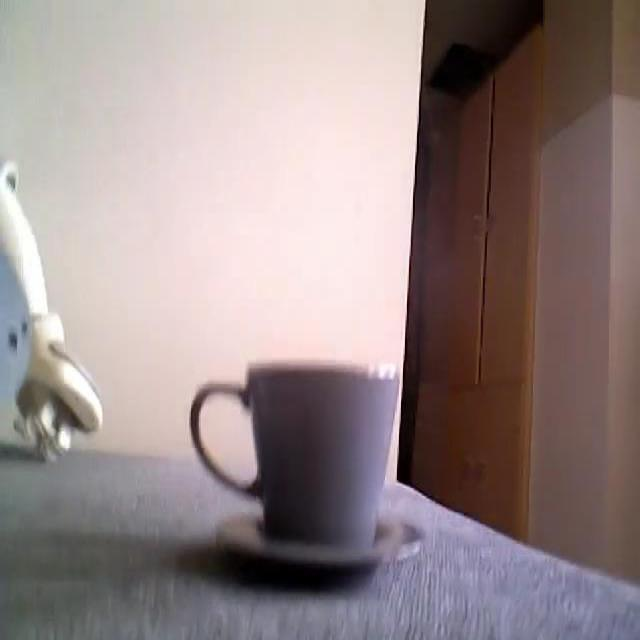cup: (190, 355, 444, 580)
